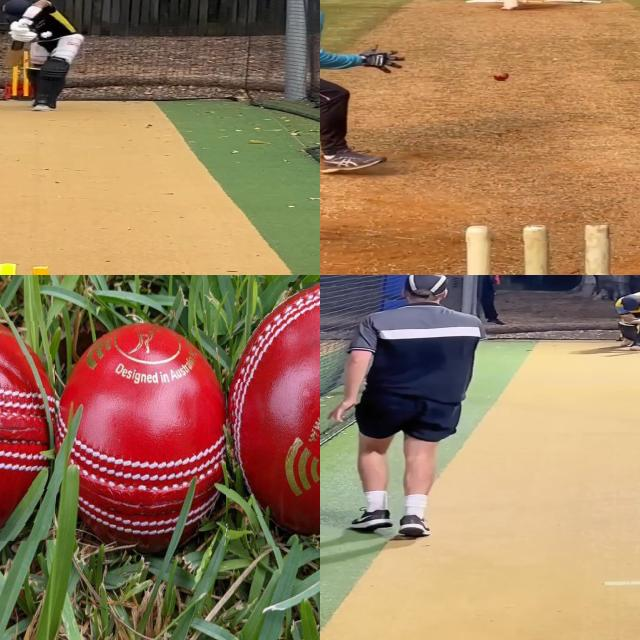Cricket ball: (54, 307, 230, 563), (226, 282, 320, 551), (0, 307, 55, 543), (492, 73, 510, 81), (40, 31, 53, 39)
Stumps: (462, 225, 615, 275)
